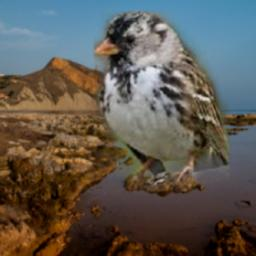Sparrow: (95, 11, 231, 194)
